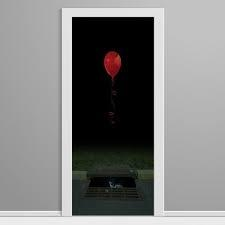red: (104, 51, 121, 80)
